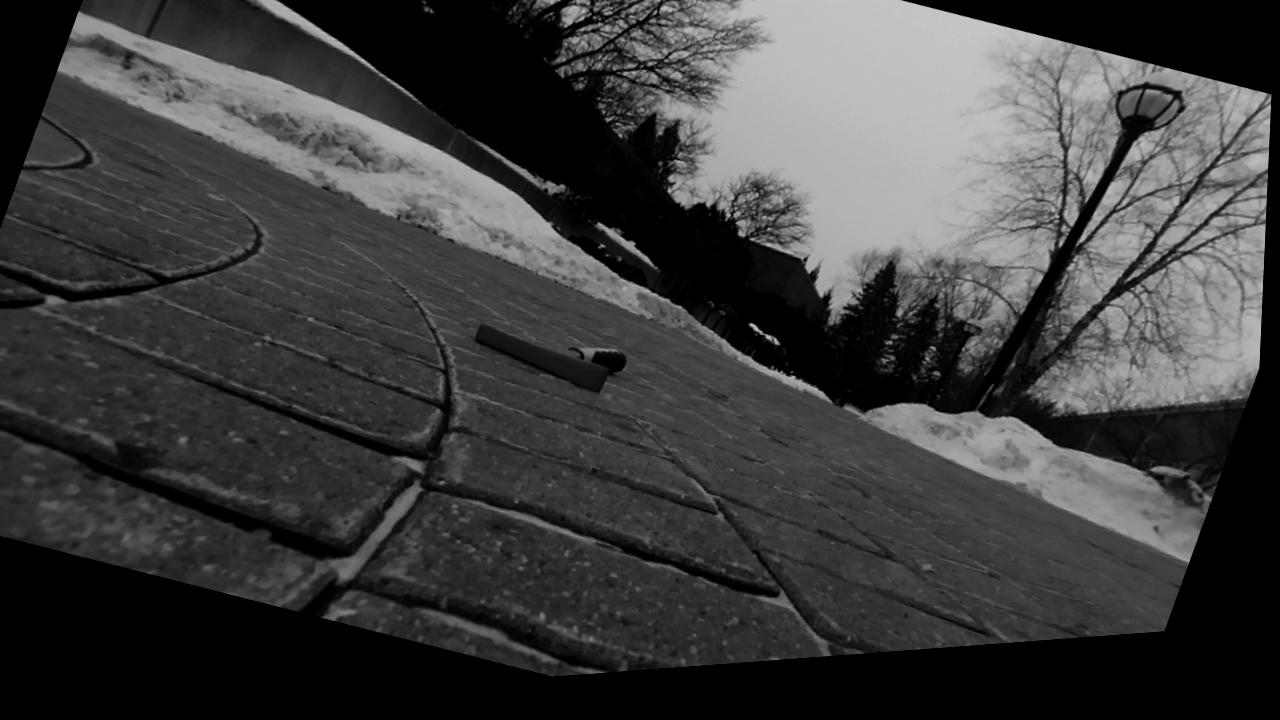pick: (474, 325, 624, 392)
